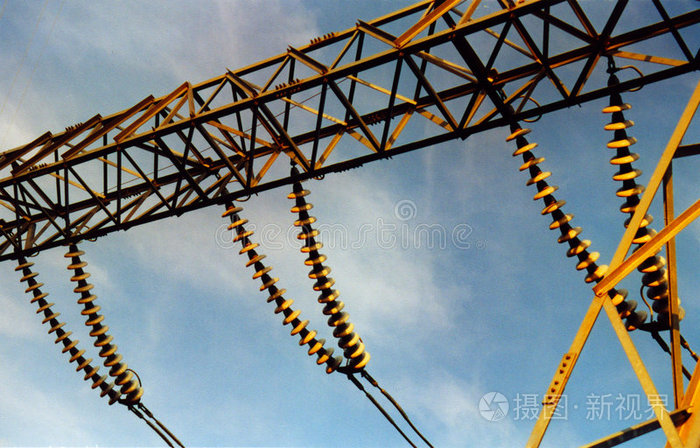insulator: (506, 125, 646, 335), (221, 203, 341, 375), (597, 100, 682, 325), (284, 187, 371, 370), (14, 260, 121, 407), (65, 248, 143, 404)
